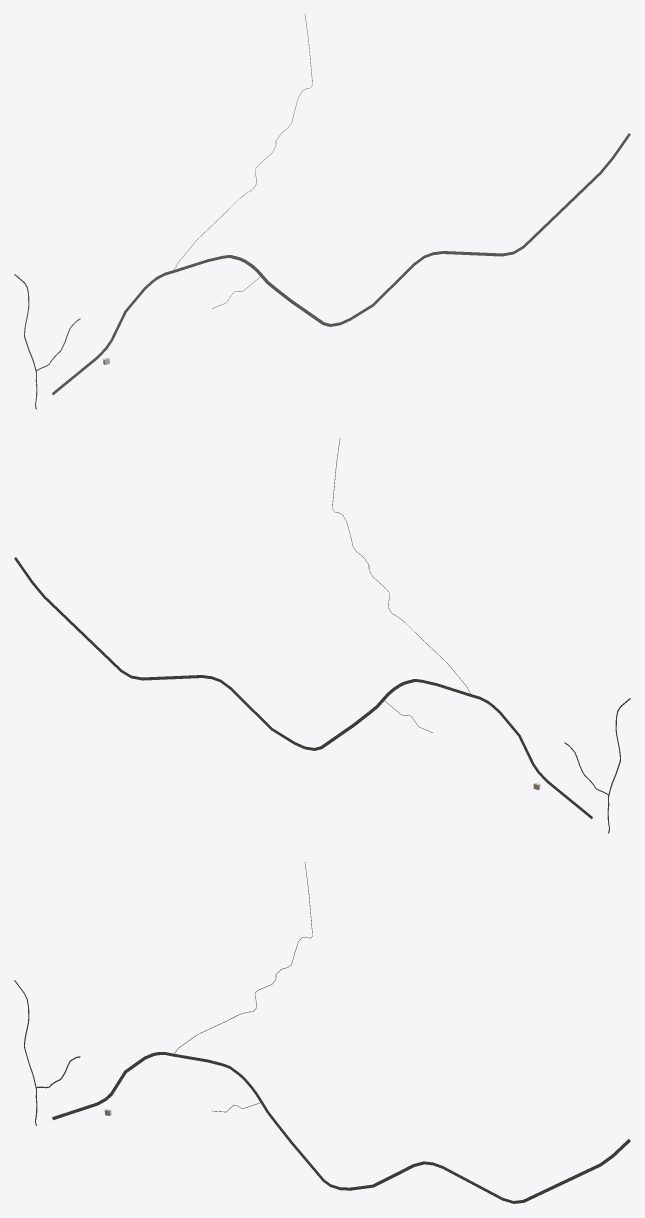
Rendered from historic-palestine-08_25_3501_3198.glb.
3 renders of one model, top to bottom at view 1: azimuth 30°, elevation 25°; view 2: azimuth 150°, elevation 25°; view 3: azimuth 330°, elevation 25°, orthographic.
Visible parts, largest first — view 1: Road 4460; view 2: Road 4460; view 3: Road 4460.
Boxes of the visible parts, <box> form: Road 4460: <box>52,133,630,395</box>; Road 4460: <box>14,557,592,819</box>; Road 4460: <box>52,1052,630,1203</box>.
Size of the model in its own units: 1737 by 887 by 8.7.
